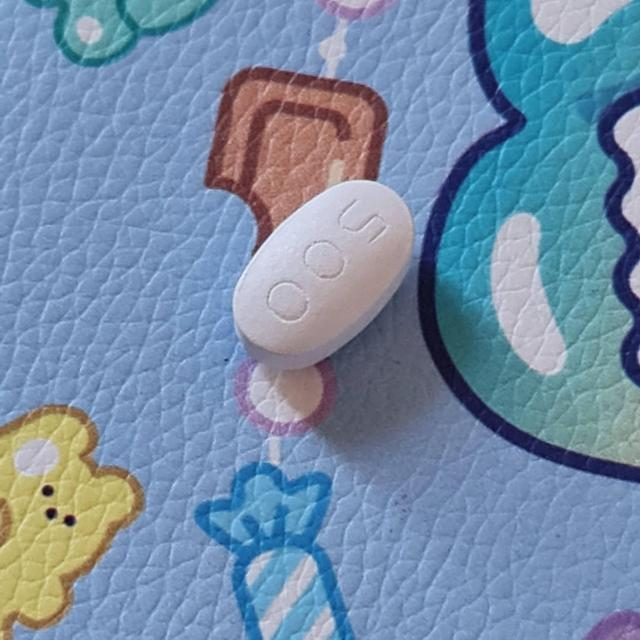pill: (236, 181, 413, 355)
